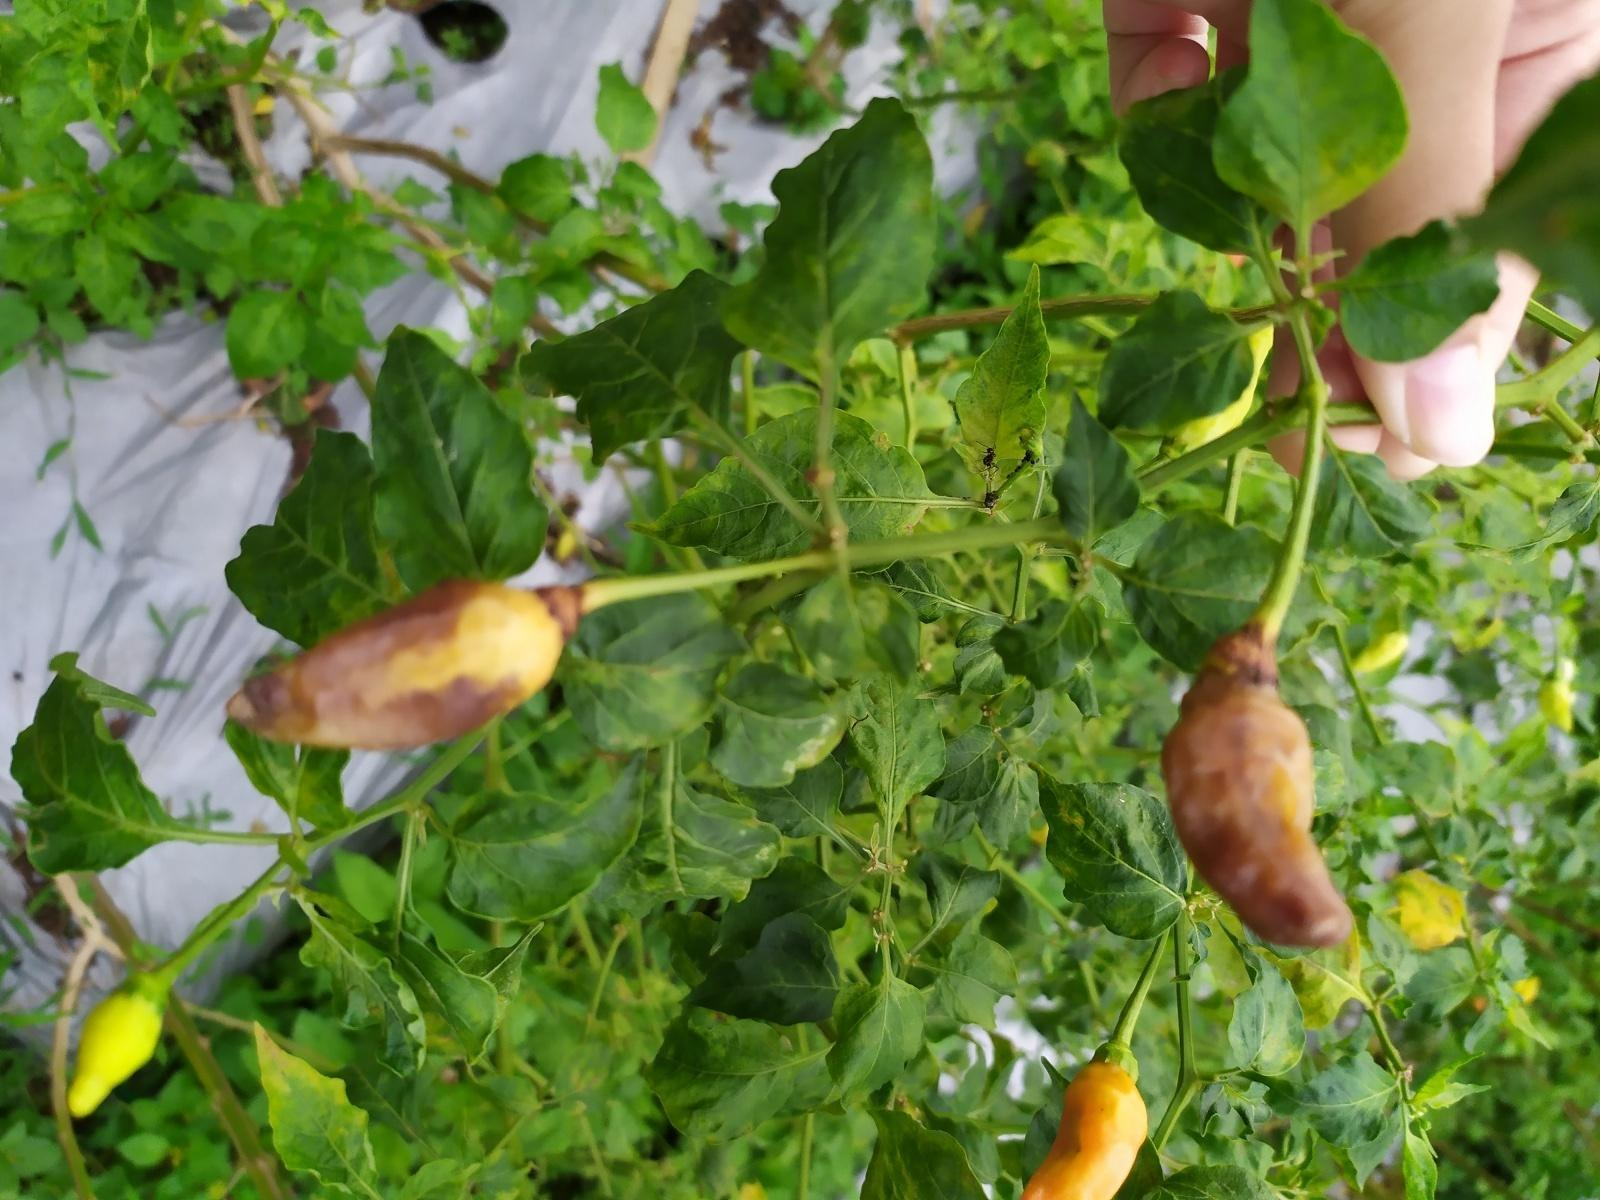cabai_normal: (1009, 1060, 1151, 1200), (66, 981, 165, 1116)
lalat_buah: (220, 580, 578, 750), (1159, 634, 1349, 950)
